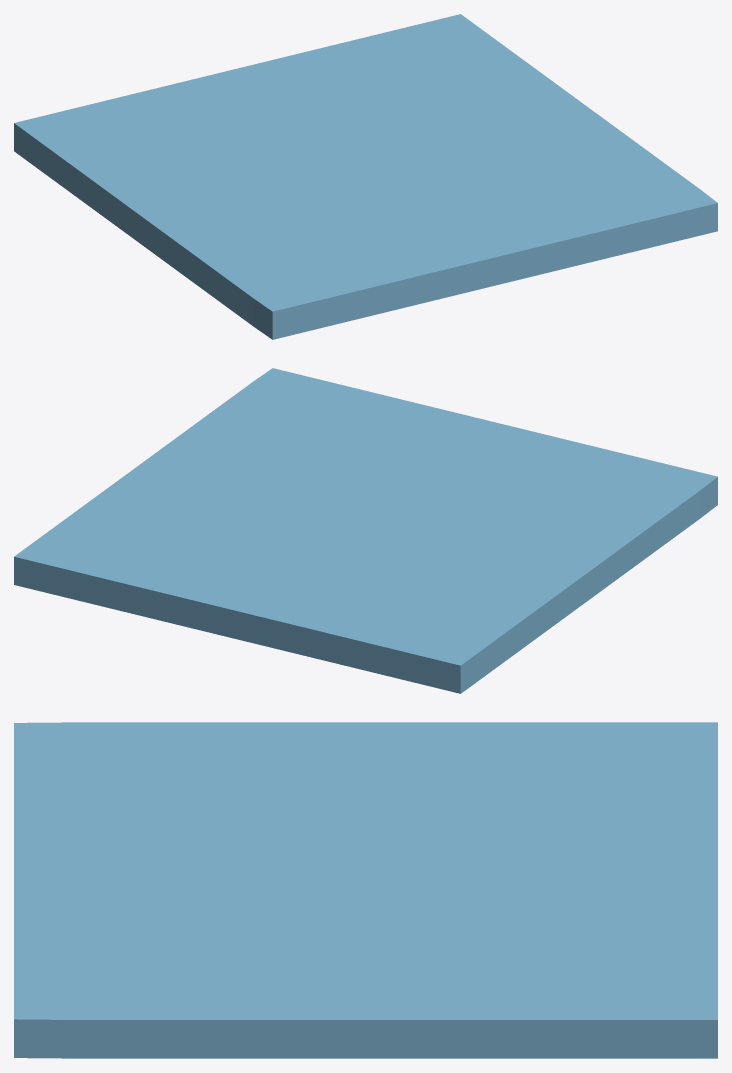
Rendered from Street_Empty_Water.glb.
The picture shows the model from 3 angles, top to bottom: view 1: azimuth 30°, elevation 25°; view 2: azimuth 150°, elevation 25°; view 3: azimuth 270°, elevation 25°; orthographic projection. The views are drawn at different scales.
Parts seen in each view (by area): view 1: Street_Empty_Water.obj; view 2: Street_Empty_Water.obj; view 3: Street_Empty_Water.obj.
Boxes of the visible parts, box(x1,y1,x2,y2) form: Street_Empty_Water.obj: box(14, 14, 717, 339); Street_Empty_Water.obj: box(14, 368, 717, 693); Street_Empty_Water.obj: box(14, 722, 717, 1058).
Bounding box in the file's own units: 2 × 0.1209 × 2.
